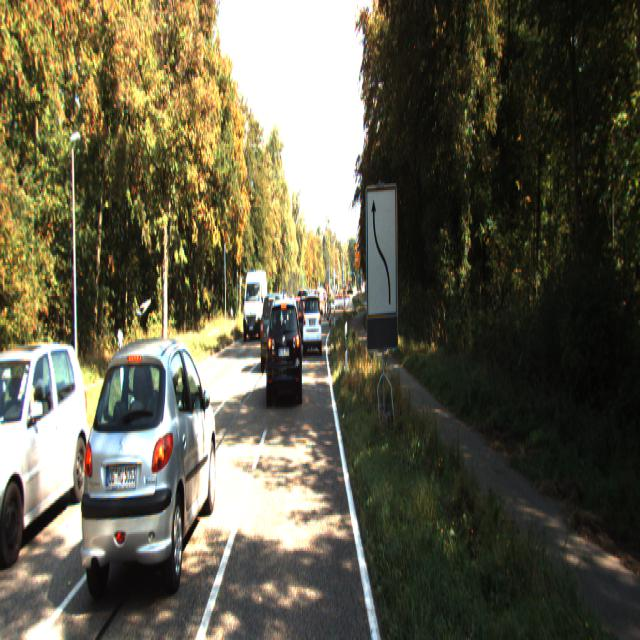Car: (82, 328, 219, 608), (0, 336, 95, 568), (266, 293, 302, 403), (260, 289, 288, 368), (243, 268, 267, 336), (304, 290, 322, 350)
